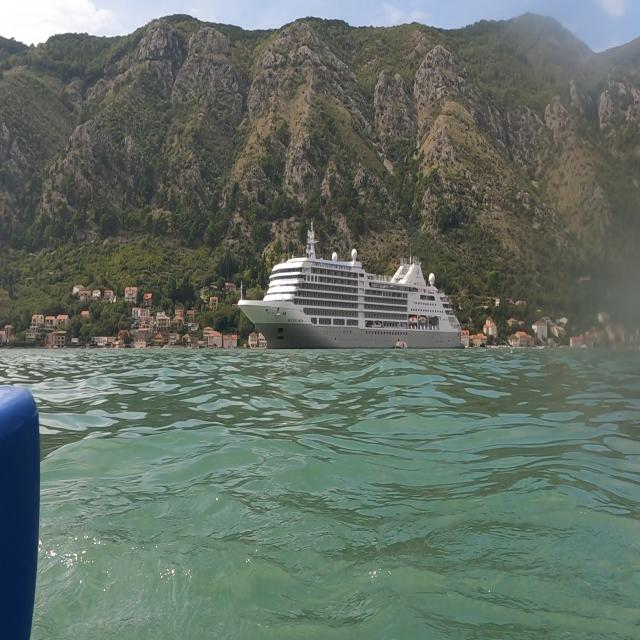boat: (235, 216, 467, 352)
